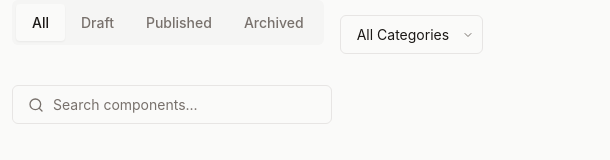
Test: ComponentFilters › Search Input with Debounce › clears search immediately when clear button is clicked
Type "test" into the field with placeholder "Search components..." at (172, 104), box [12,85,332,124]
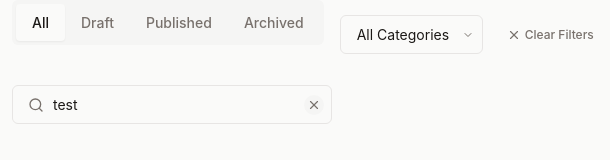
Click the button named "Clear search" at (314, 104), box [304,94,324,114]
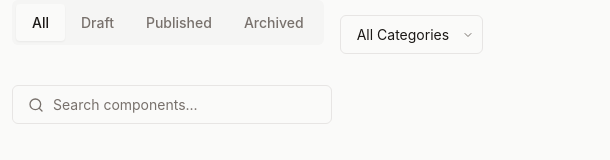
Check: the field with placeholder "Search components..." is empty, box [12,85,332,124]
